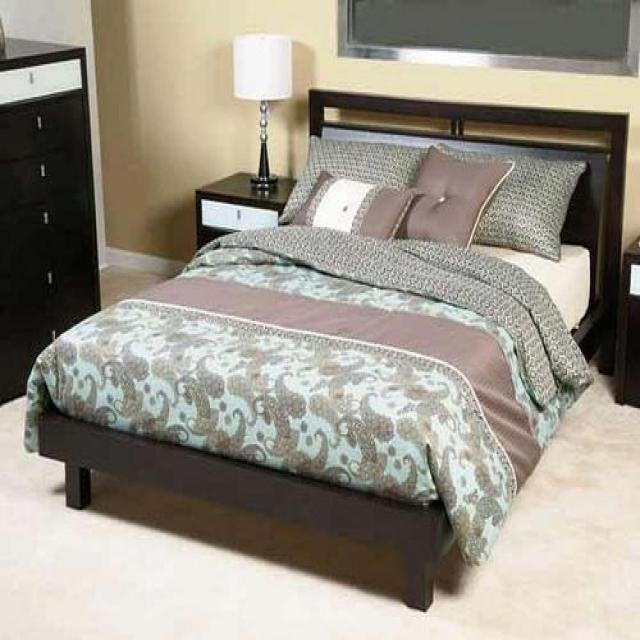bed: (21, 86, 628, 611)
